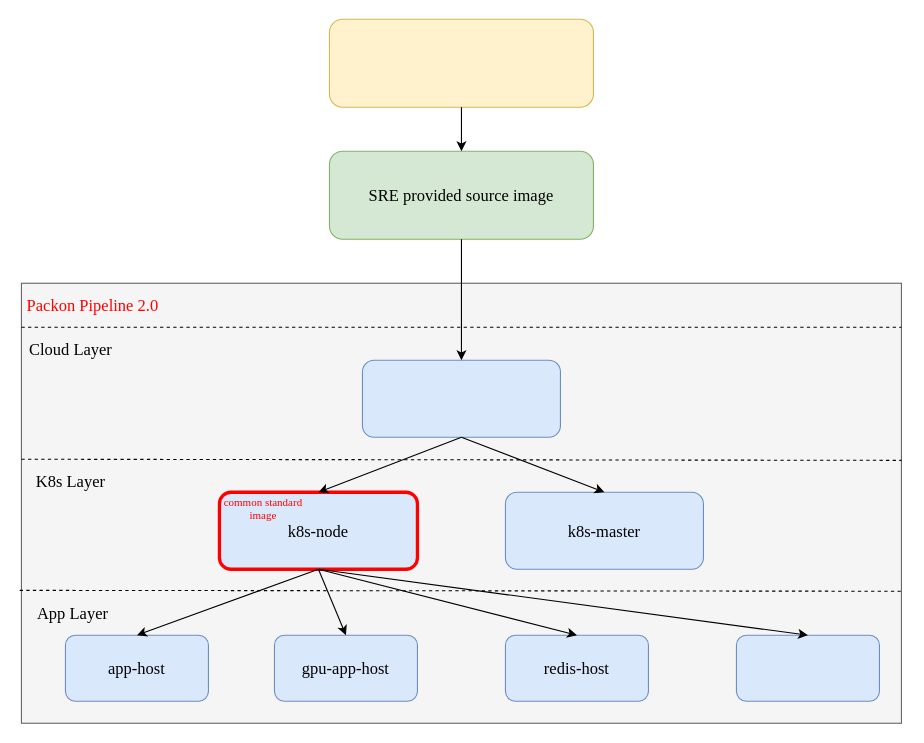
The diagram is 924 pixels wide and 743 high, and some of its shapes have lost their labels. Here are the shapes that lost their labels. From the top down, the centre of each, then its label:
At pixel 460 62: "CentOS 7 Amazon Linux 2 Alibaba Cloud Linux 3".
At pixel 460 398: "cloud-base".
At pixel 807 667: "es-host".
